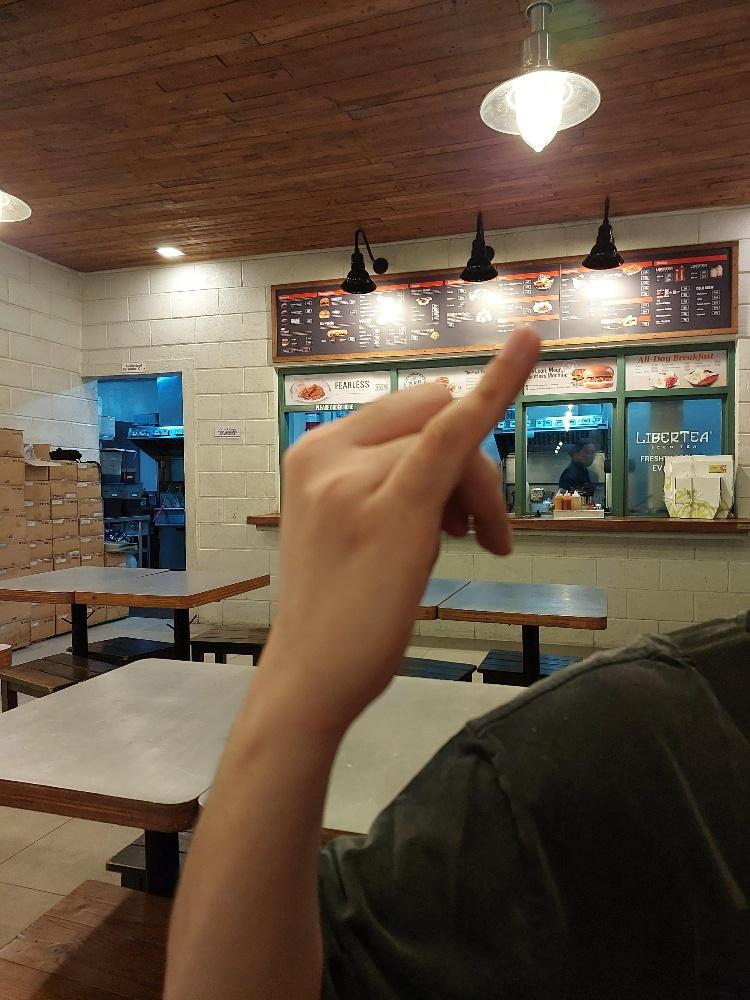j: (268, 325, 544, 737)
